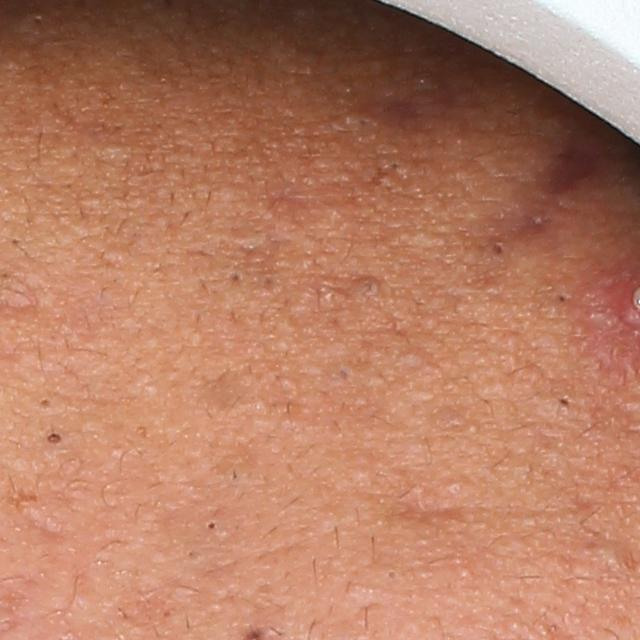comedo: (595, 539, 637, 570), (197, 516, 225, 536), (551, 284, 573, 308), (551, 392, 573, 414), (43, 428, 67, 448), (487, 238, 510, 258), (361, 277, 381, 296), (260, 272, 278, 293), (227, 266, 244, 285), (386, 568, 398, 583)
